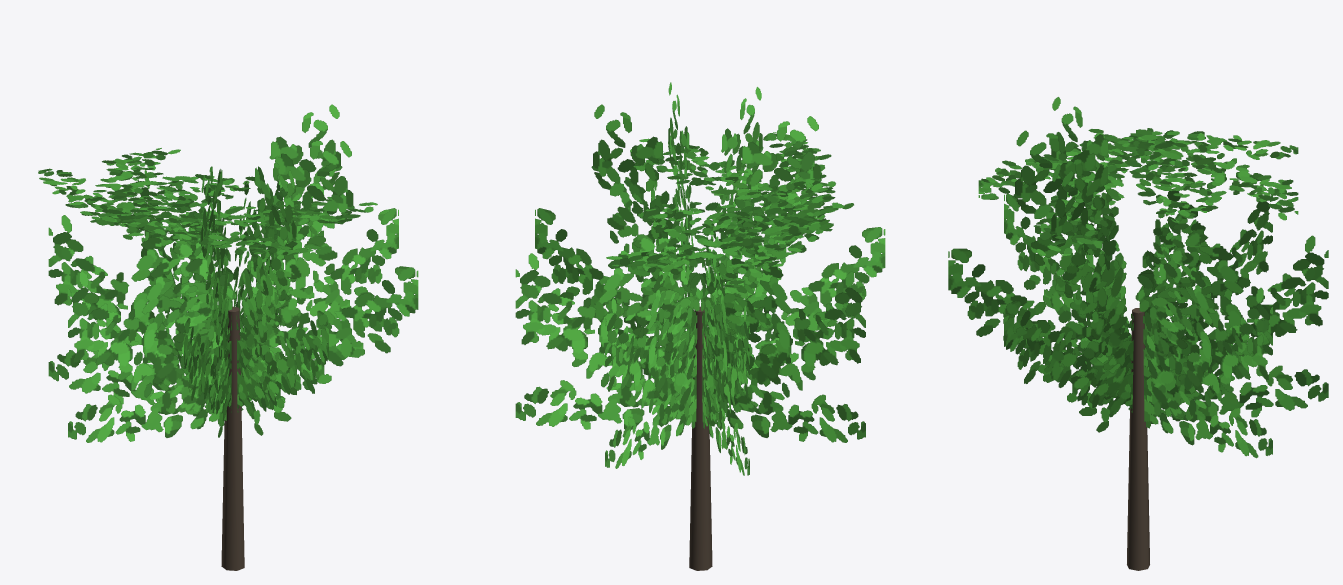
The model's file is tree.glb.
3 renders of one model, left to right at view 1: azimuth 30°, elevation 25°; view 2: azimuth 150°, elevation 25°; view 3: azimuth 270°, elevation 25°, orthographic.
Parts seen in each view (by area): view 1: Arbre; view 2: Arbre; view 3: Arbre.
Boxes of the visible parts, left/top/right/bottom form: Arbre: left=38, top=104, right=418, bottom=570; Arbre: left=515, top=82, right=885, bottom=570; Arbre: left=948, top=97, right=1328, bottom=570.
Size of the model in its own units: 5.4 by 7.38 by 5.4.
Materials: 2 (1 with a texture image).
